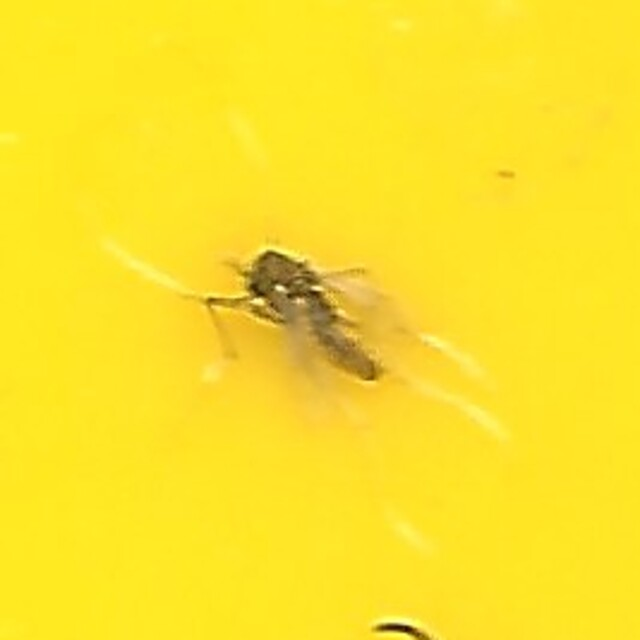Nematocera: (240, 242, 400, 398)
